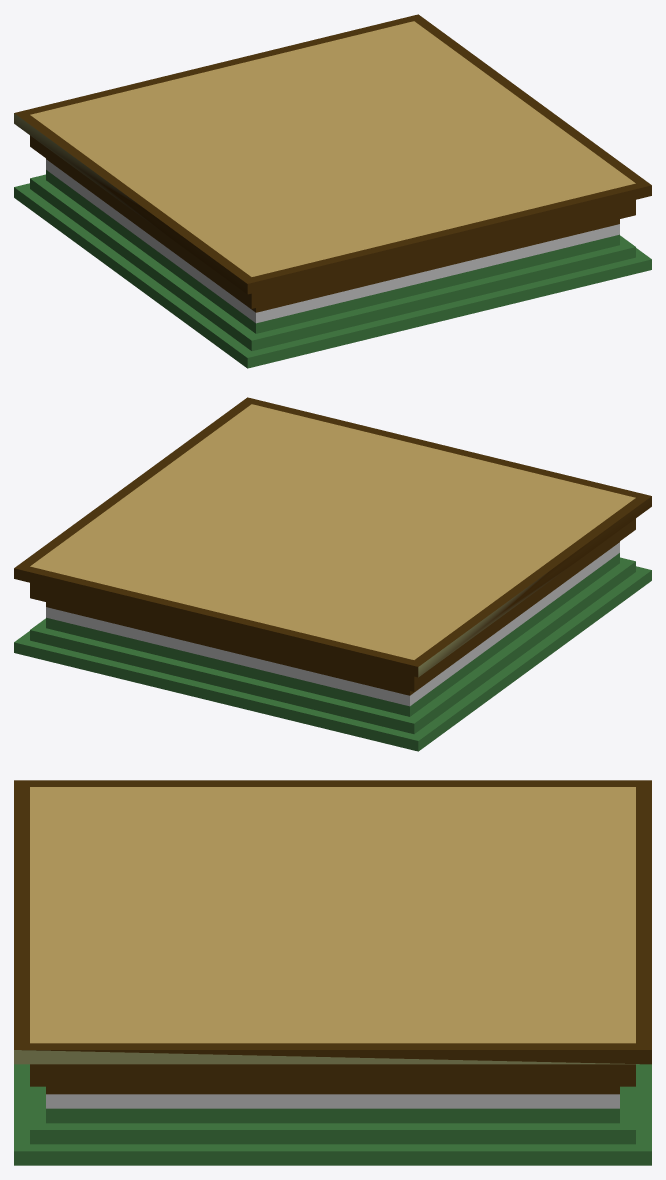
Rendered from building_top_eggs.glb.
The picture shows the model from 3 angles, top to bottom: view 1: azimuth 30°, elevation 25°; view 2: azimuth 150°, elevation 25°; view 3: azimuth 270°, elevation 25°; orthographic projection. The views are drawn at different scales.
Parts seen in each view (by area): view 1: ObjObject; view 2: ObjObject; view 3: ObjObject.
Part boxes in pixels (bbox=[...]): ObjObject: bbox=[14, 14, 651, 368]; ObjObject: bbox=[14, 397, 651, 751]; ObjObject: bbox=[14, 780, 651, 1165].
Bounding box in the file's own units: 4 × 0.8 × 4.
Materials: 1 (1 with a texture image).
